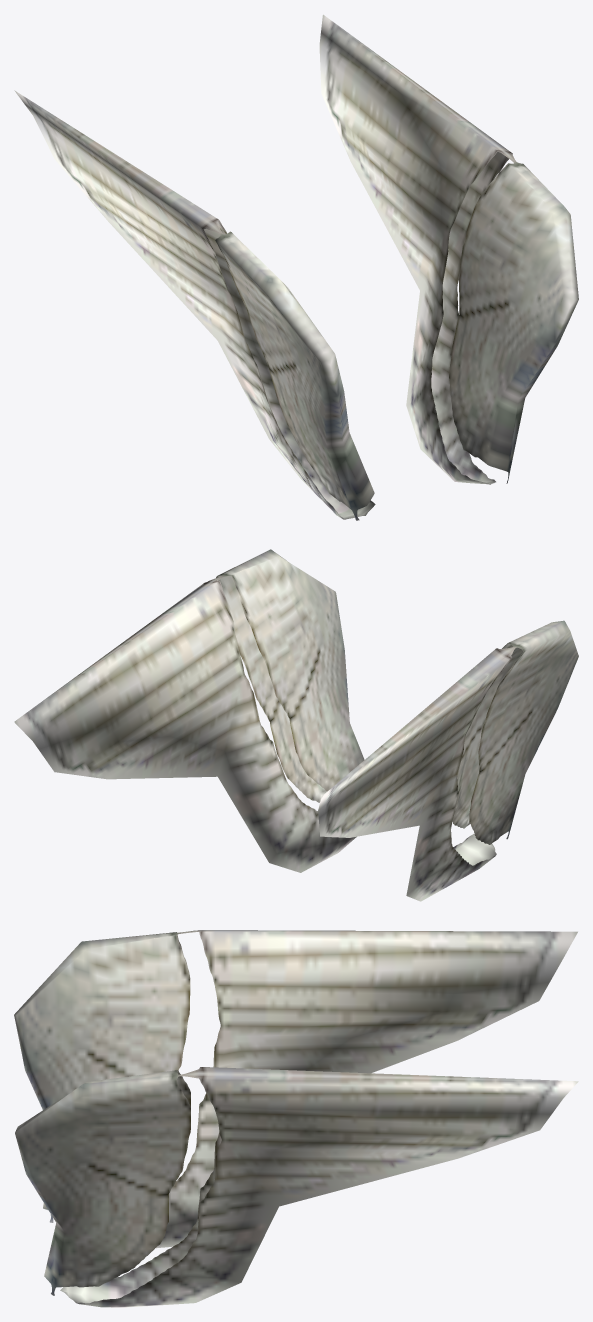
The model's file is pegasus_wings.dae.
3 renders of one model, top to bottom at view 1: azimuth 30°, elevation 25°; view 2: azimuth 150°, elevation 25°; view 3: azimuth 270°, elevation 25°, orthographic.
Parts seen in each view (by area): view 1: Mesh; view 2: Mesh; view 3: Mesh.
Part boxes in pixels (x1=…): Mesh: x1=14, y1=14, x2=578, y2=520; Mesh: x1=14, y1=549, x2=578, y2=901; Mesh: x1=14, y1=930, x2=578, y2=1307.
Bounding box in the file's own units: 2.12 × 3.37 × 1.84.
